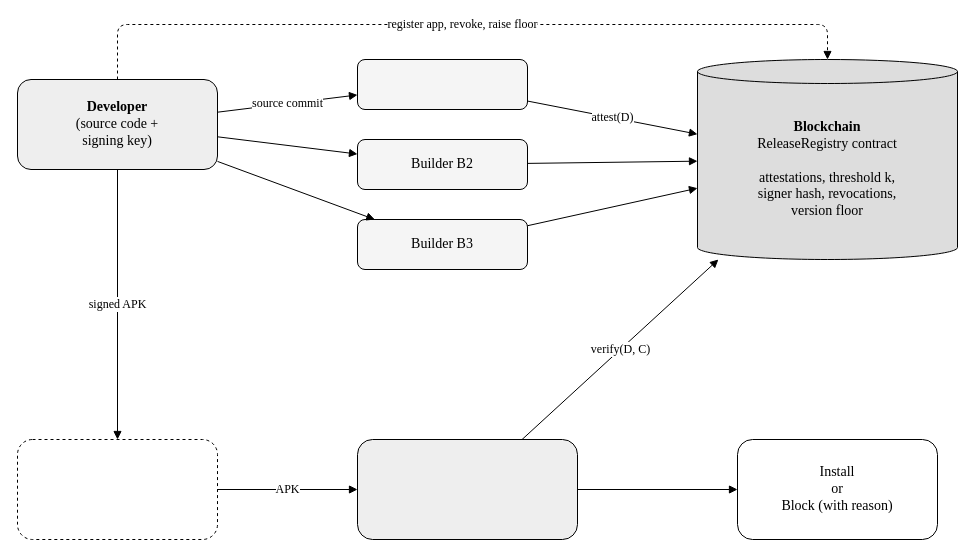
Some shapes in this 975 by 557 pixel diagram are drawn without their labels. The shapes that lost their labels are listed below. From the top down, each one's centre as x and y in pixels, then its label:
At (442,84): "Builder B1".
At (117,489): "Distribution channel (app store, website, sideload) untrusted".
At (467,489): "User device Verifier computes digest D and cert hash C".
